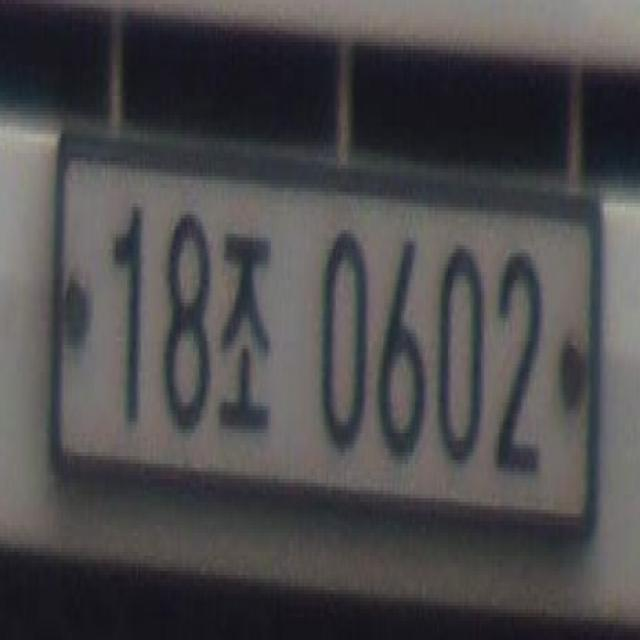0: (318, 211, 369, 460), (436, 234, 486, 471)
1: (104, 188, 149, 441)
2: (492, 238, 545, 487)
6: (370, 230, 430, 475)
8: (157, 196, 213, 444)
jo: (215, 199, 278, 456)
license_plate: (42, 122, 604, 560)
